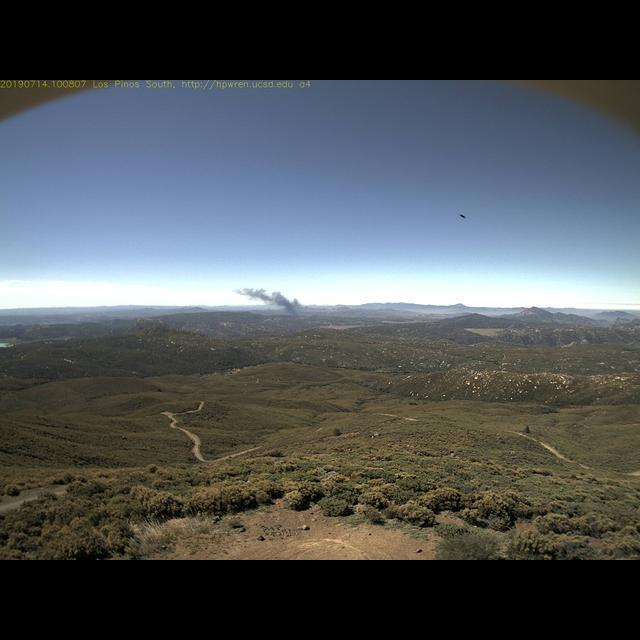Smoke: (231, 283, 307, 319)
